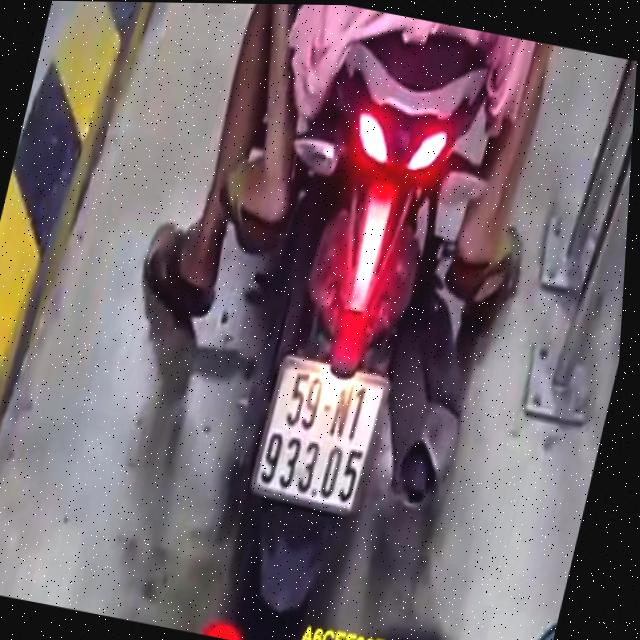motorcycle: (145, 12, 550, 640)
plate: (237, 350, 394, 524)
